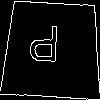P: (27, 24, 61, 72)
